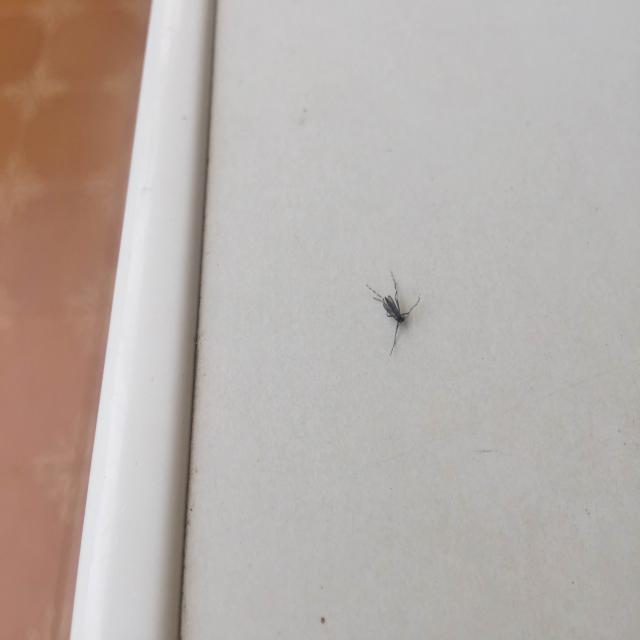albopictus: (364, 261, 422, 361)
